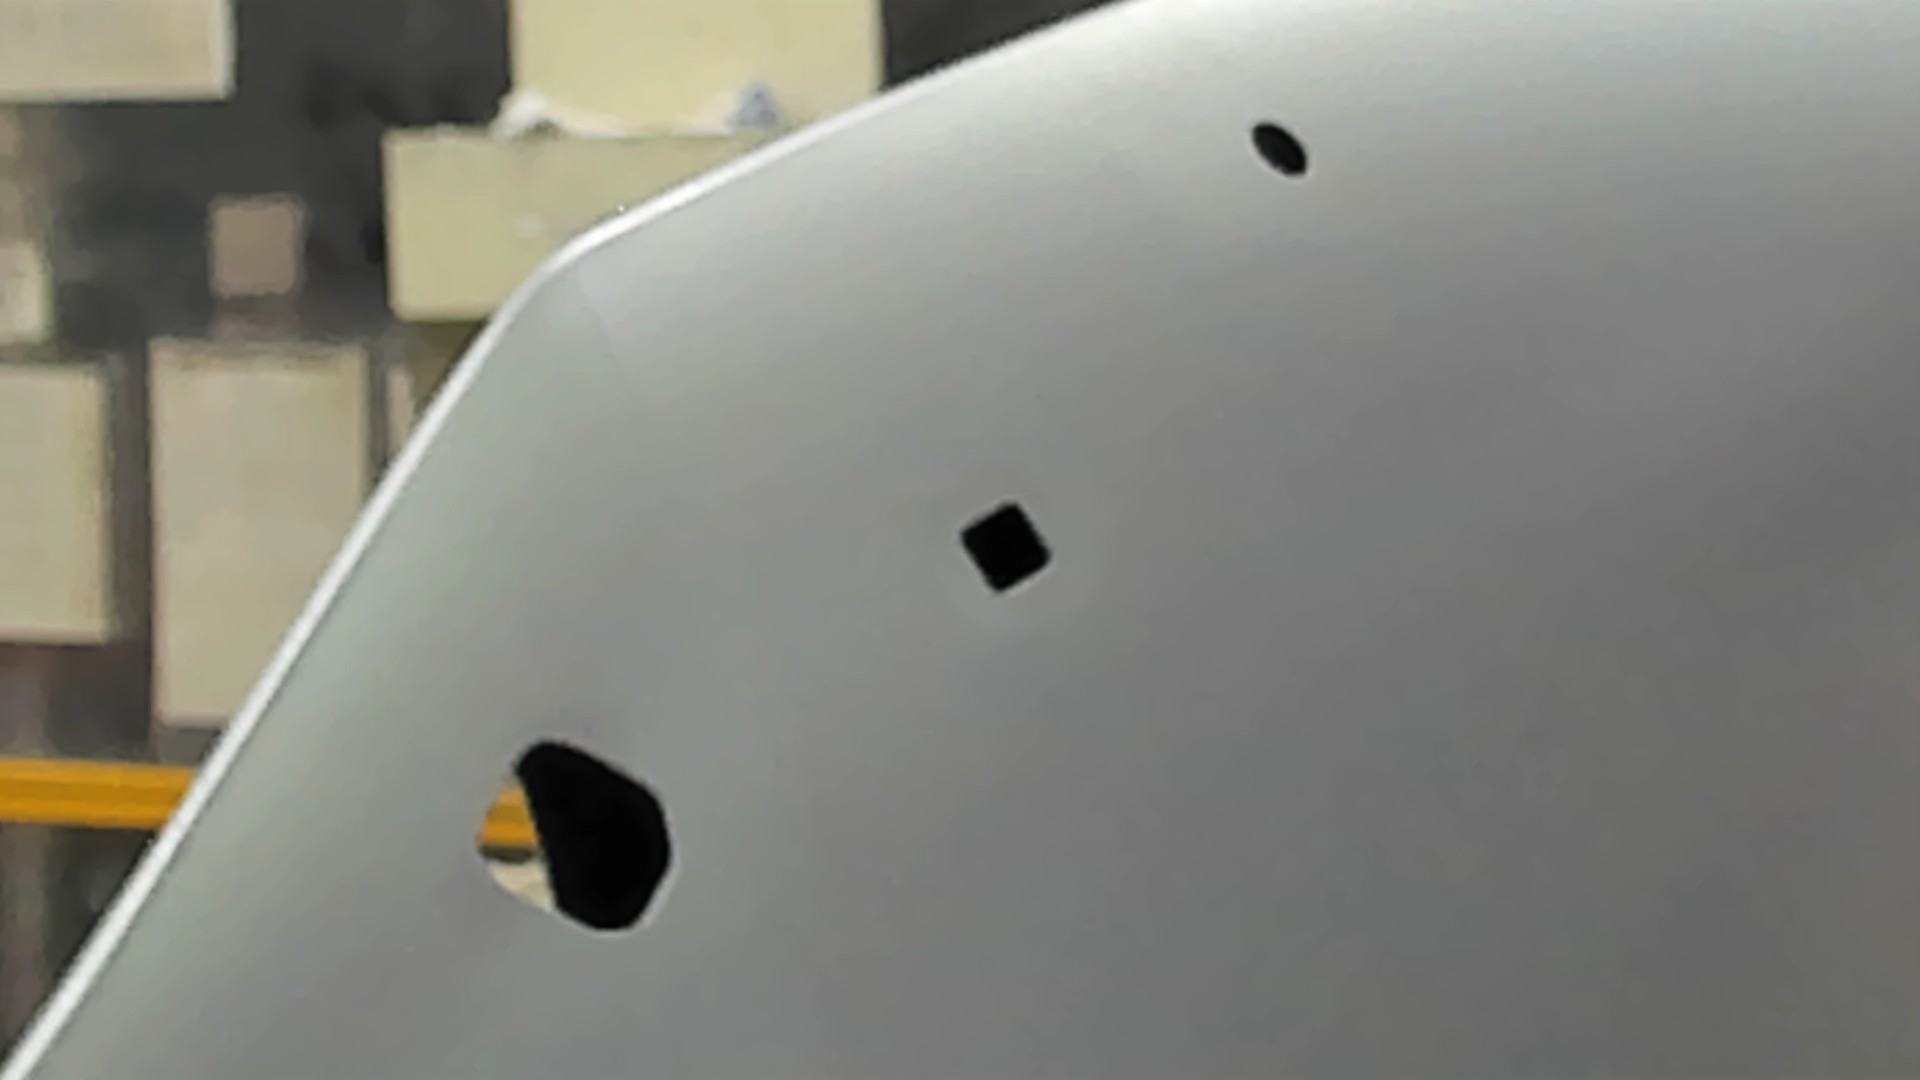chico: (1246, 115, 1316, 185)
grande: (468, 729, 687, 942)
mediano: (953, 498, 1058, 596)
